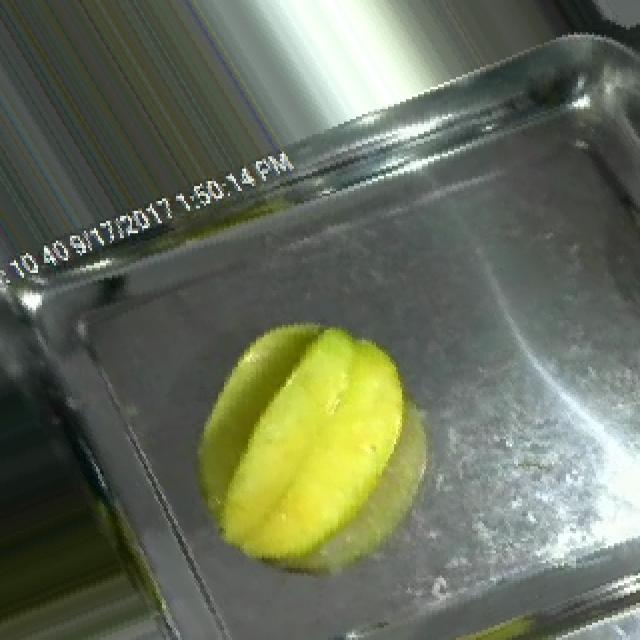fruit: (132, 268, 474, 613)
